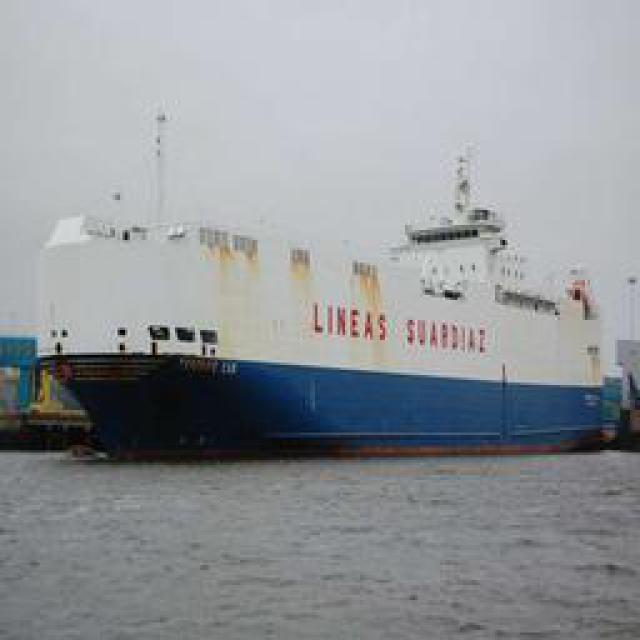Ship: (33, 137, 640, 455)
